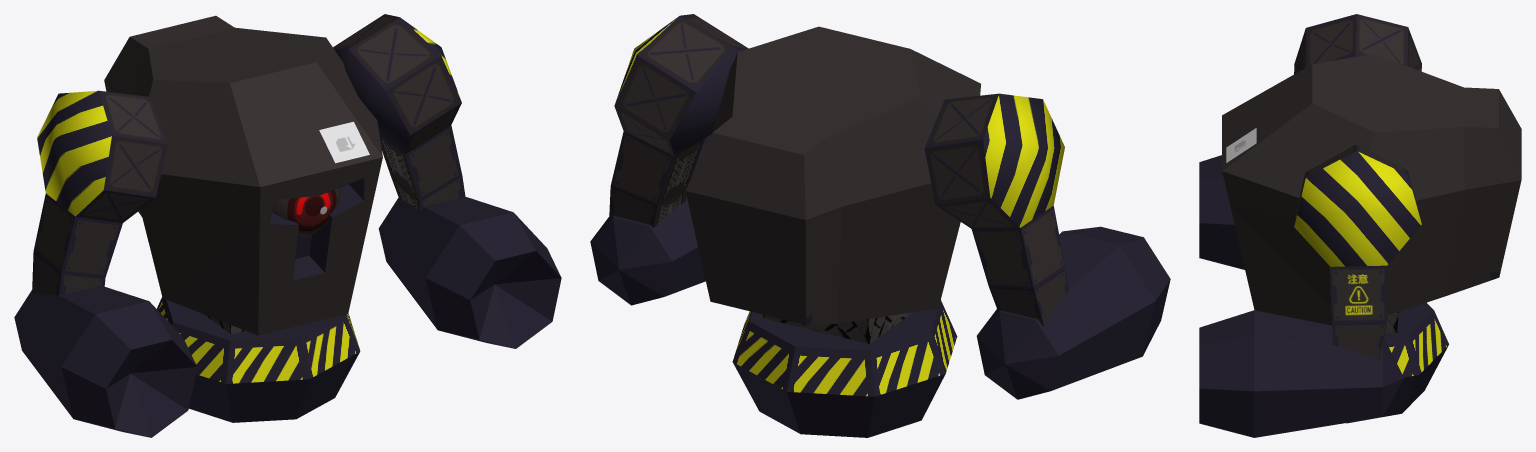
Rendered from med-float-bot.fbx.
3 renders of one model, left to right at view 1: azimuth 30°, elevation 25°; view 2: azimuth 150°, elevation 25°; view 3: azimuth 270°, elevation 25°, orthographic. The views are drawn at different scales.
Visible parts, largest first — view 1: body, eye; view 2: body; view 3: body.
Boxes of the visible parts, x1,y1,x2,y2 form: body: (14, 14, 561, 437); eye: (272, 188, 340, 236); body: (590, 14, 1170, 437); body: (1199, 14, 1521, 437).
Bounding box in the file's own units: 286 × 186 × 177.
